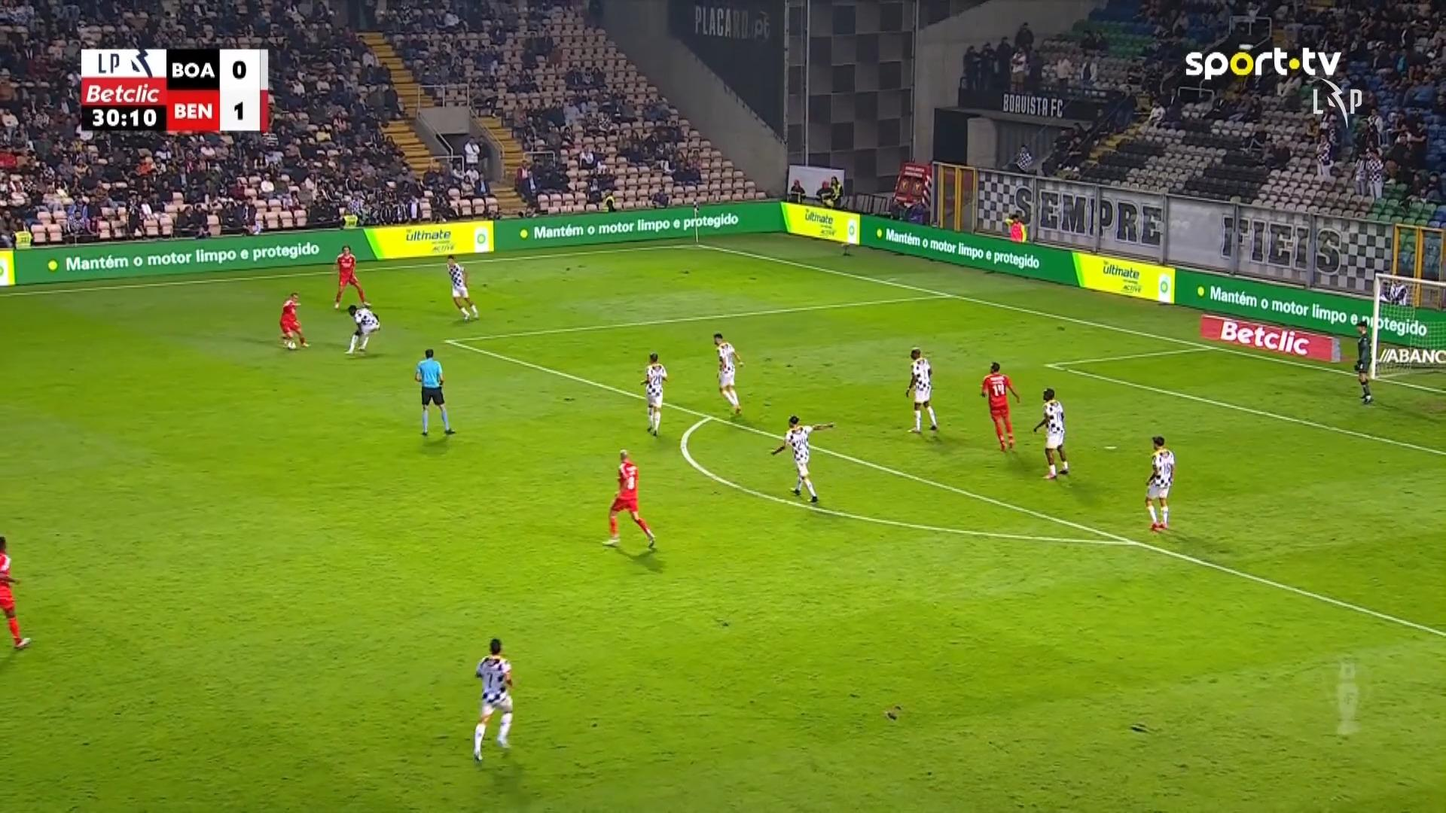ball: (286, 340, 296, 349)
goalkeeper: (1353, 321, 1373, 403)
player: (769, 414, 834, 503), (601, 449, 655, 549), (471, 637, 514, 762), (979, 361, 1020, 452), (0, 535, 31, 650), (1032, 387, 1069, 480), (1143, 434, 1175, 531), (905, 346, 938, 434), (712, 332, 744, 416), (639, 352, 667, 436), (332, 244, 368, 309), (445, 254, 478, 321), (344, 303, 380, 355), (279, 291, 310, 350)
referee: (413, 347, 456, 436)
